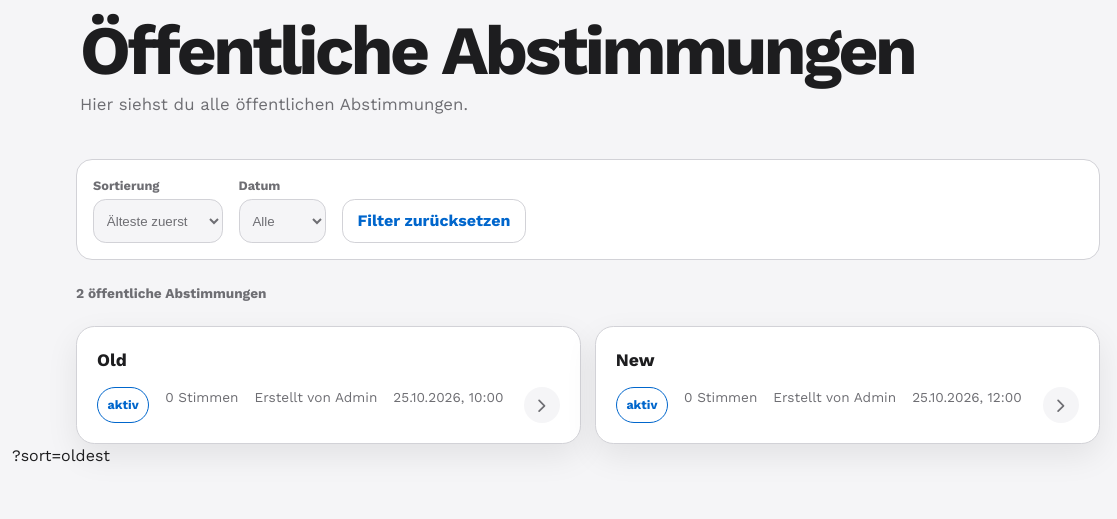
Test case: PollsPage › reads and writes the allowlisted sort state in the URL
The image size is (1117, 519).
Step 1. Select "Neueste zuerst" in the dropdown labelled "Sortierung" → (158, 222), box [93,200,223,244]
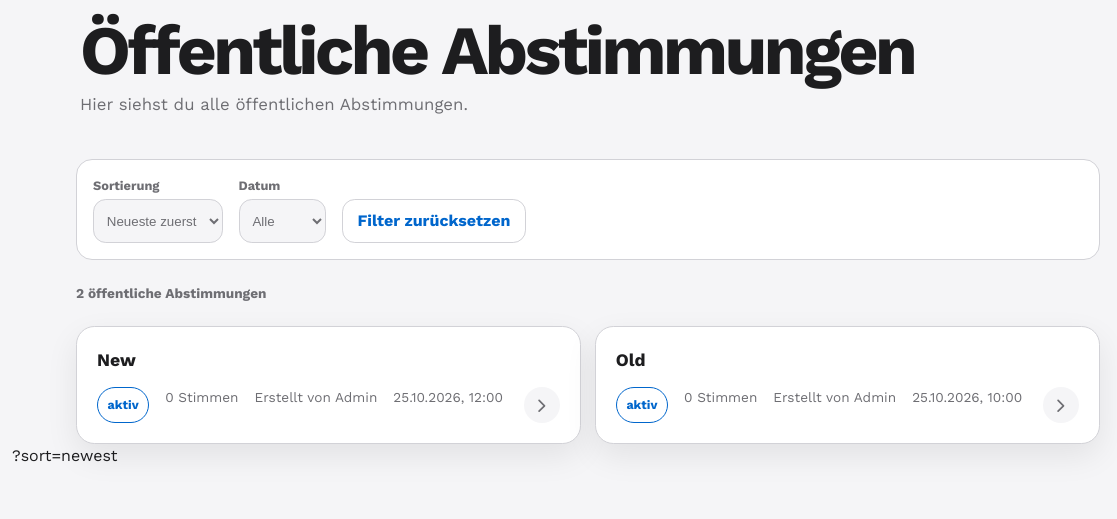
Expected: the text named "URL-Suche" reads "?sort=newest", [12,446,118,465]
Step 2. Select "Datum" in the dropdown labelled "Datum" → (282, 222), box [239,200,326,244]
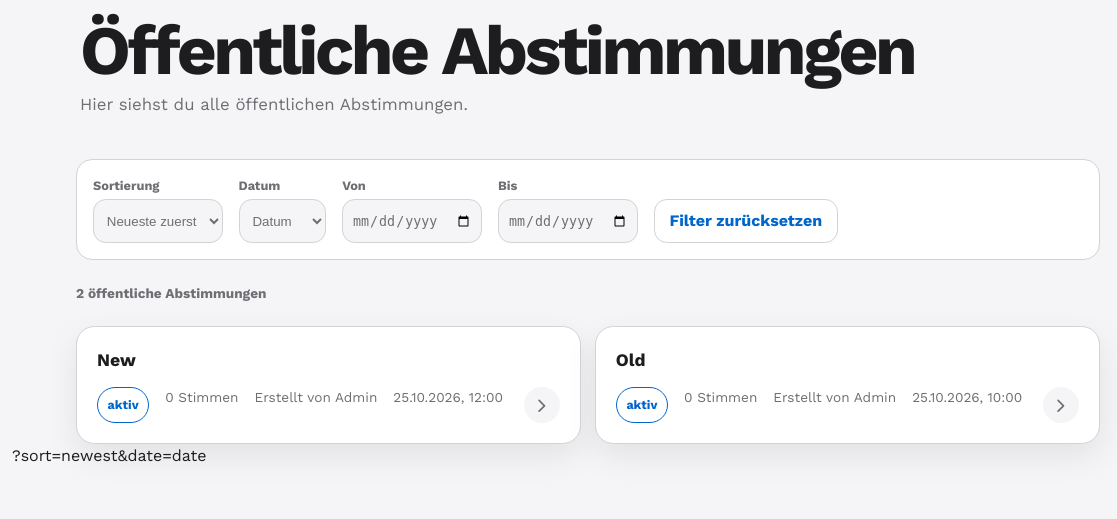
Expected: the text named "URL-Suche" reads "?sort=newest&date=date", [12,446,206,465]
Step 3. Type "2026-08-01" into the date field labelled "Von" → (412, 222), box [342,200,482,244]
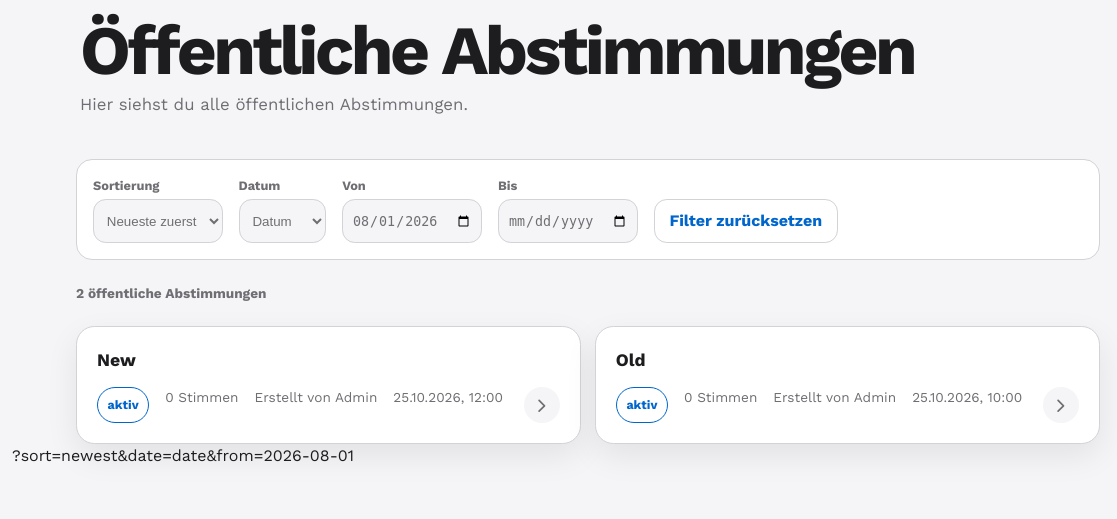
Expected: the text named "URL-Suche" reads "?sort=newest&date=date&from=2026-08-01", [12,446,354,465]
Step 4. Type "2026-08-03" into the date field labelled "Bis" → (568, 222), box [498,200,638,244]
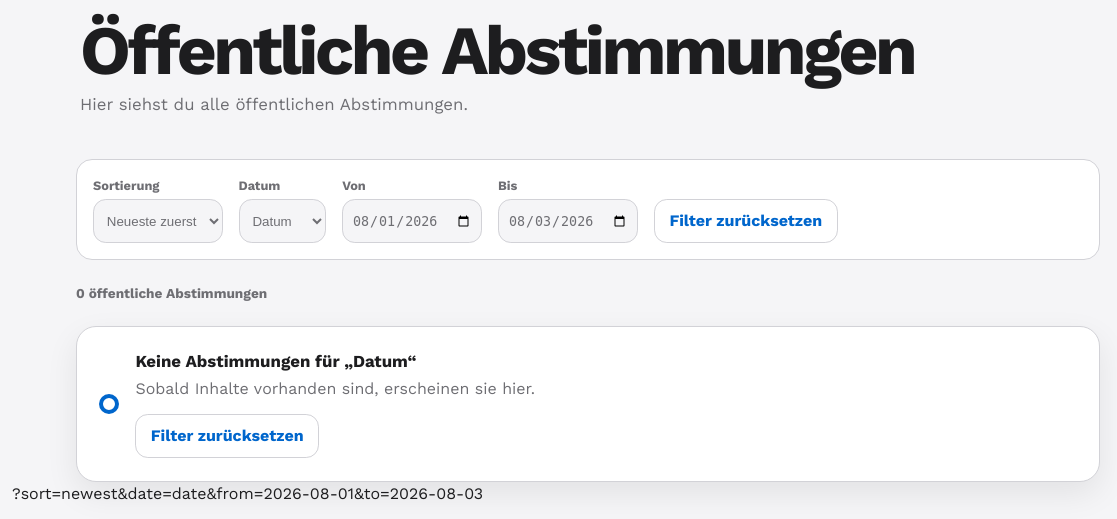
Expected: the text named "URL-Suche" reads "?sort=newest&date=date&from=2026-08-01&to=2026-08-03", [12,484,483,503]
